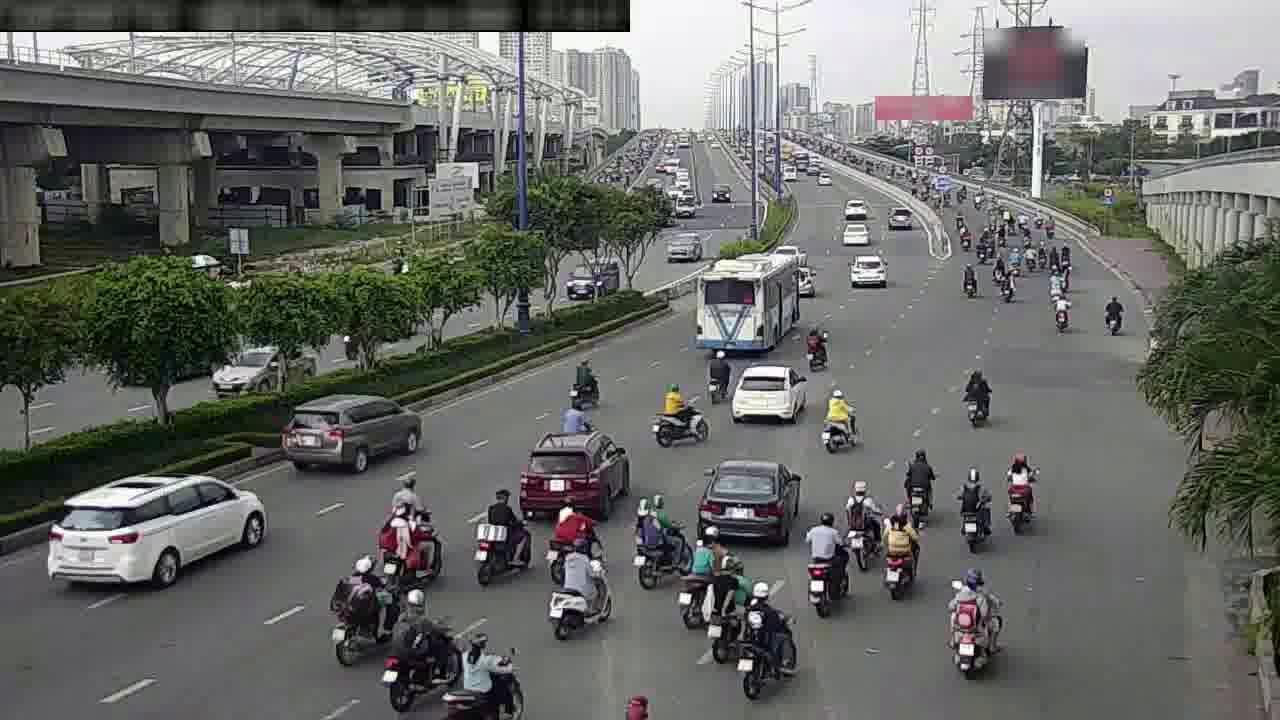14: (695, 260, 796, 344)
container: (57, 463, 269, 584), (290, 384, 418, 469), (694, 463, 797, 544), (522, 431, 625, 512), (734, 366, 804, 425), (846, 250, 888, 292)
motorbike: (384, 598, 467, 708), (729, 578, 804, 694), (329, 549, 398, 664), (441, 629, 529, 717), (941, 561, 1003, 672), (551, 536, 616, 634), (471, 487, 536, 584), (628, 488, 684, 586), (677, 532, 729, 634), (800, 515, 852, 613), (381, 508, 439, 592), (878, 509, 923, 596), (651, 376, 702, 451), (549, 486, 597, 561), (953, 465, 994, 545), (997, 449, 1039, 524), (844, 483, 883, 562), (896, 445, 937, 518), (818, 381, 859, 453), (391, 471, 433, 530), (955, 364, 994, 426), (566, 348, 606, 408), (702, 344, 731, 402), (799, 322, 830, 372), (1097, 290, 1127, 338), (1047, 290, 1076, 335), (562, 394, 590, 433), (955, 258, 978, 298), (994, 267, 1018, 305), (1044, 266, 1066, 302), (974, 230, 994, 264), (954, 219, 973, 251), (1024, 240, 1043, 272)
